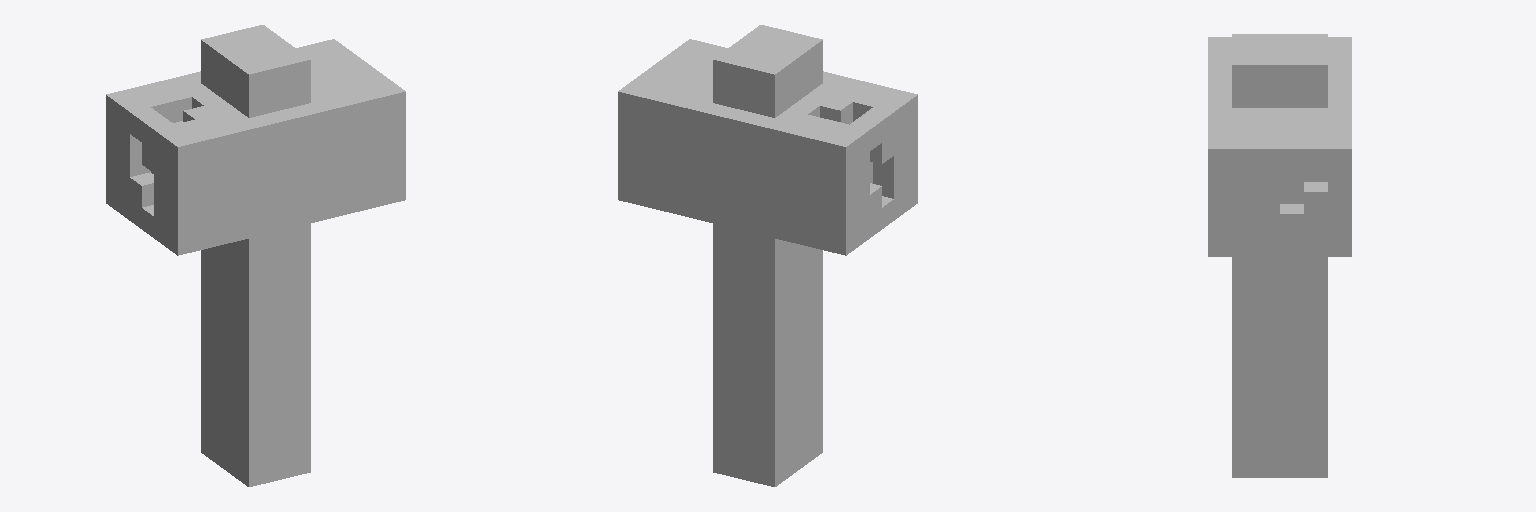
File: AutoHammer 1.obj
3 renders of one model, left to right at view 1: azimuth 30°, elevation 25°; view 2: azimuth 150°, elevation 25°; view 3: azimuth 270°, elevation 25°, orthographic.
Visible parts, largest first — view 1: object 1; view 2: object 1; view 3: object 1.
Boxes of the visible parts, x1,y1,x2,y2 form: object 1: [106, 25, 405, 486]; object 1: [618, 25, 917, 486]; object 1: [1208, 34, 1351, 477].
Bounding box in the file's own units: 1.1 × 1.9 × 0.6.